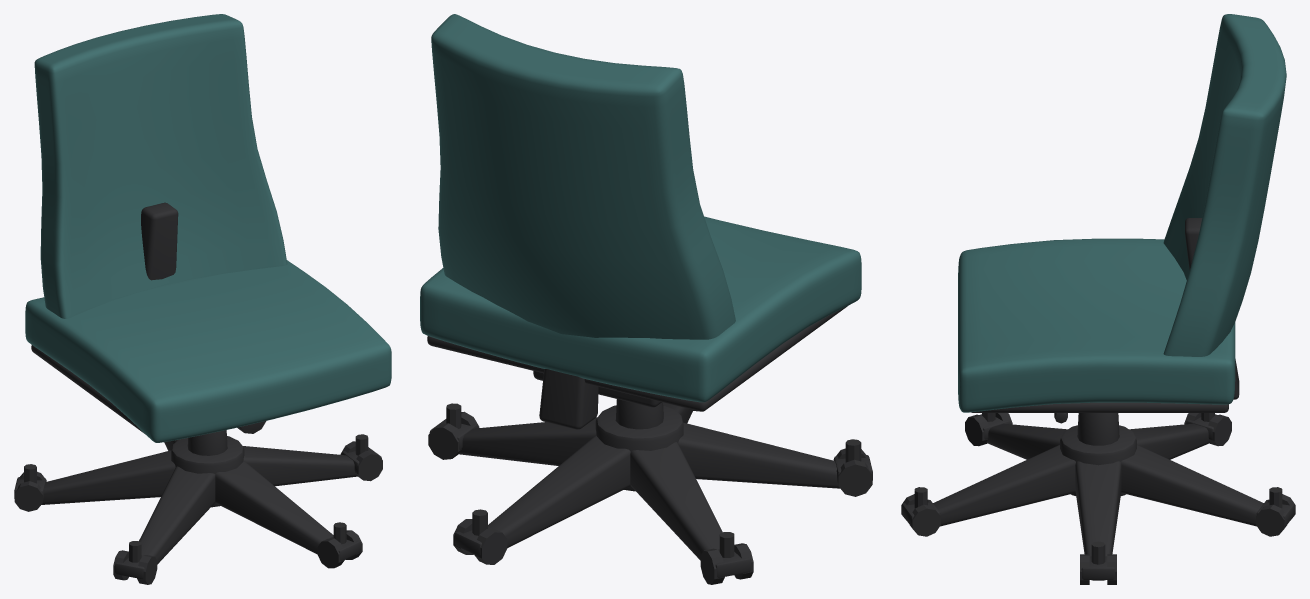
The model's file is task-chair-race.glb.
3 views of the same model, side by side, from view 1: azimuth 30°, elevation 25°; view 2: azimuth 150°, elevation 25°; view 3: azimuth 270°, elevation 25° (orthographic). The views are drawn at different scales.
Visible parts, largest first — view 1: TaskChair; view 2: TaskChair; view 3: TaskChair.
Part boxes in pixels (bbox=[...]): TaskChair: bbox=[14, 14, 391, 584]; TaskChair: bbox=[420, 14, 872, 584]; TaskChair: bbox=[901, 14, 1295, 584].
Size of the model in its own units: 0.6046 by 0.7874 by 0.6345.
